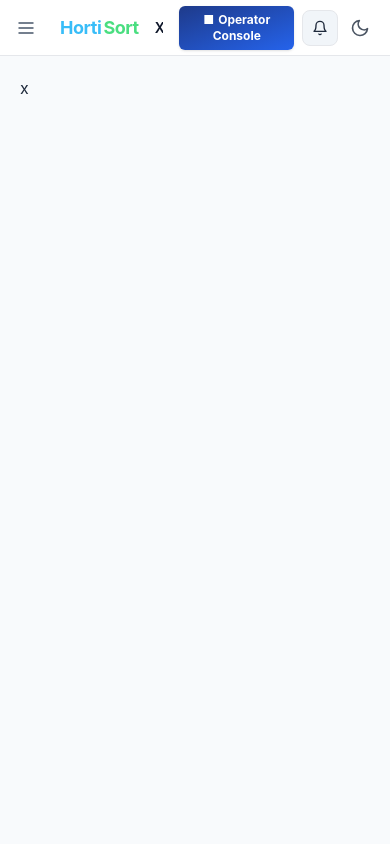
Test case: PageLayout › closes the sidebar drawer when the backdrop is clicked
The image size is (390, 844).
What coordinates should you click on to do the following:
click the button named "open navigation"
I would click on:
 (26, 28)
Its box is [8,10,44,46].
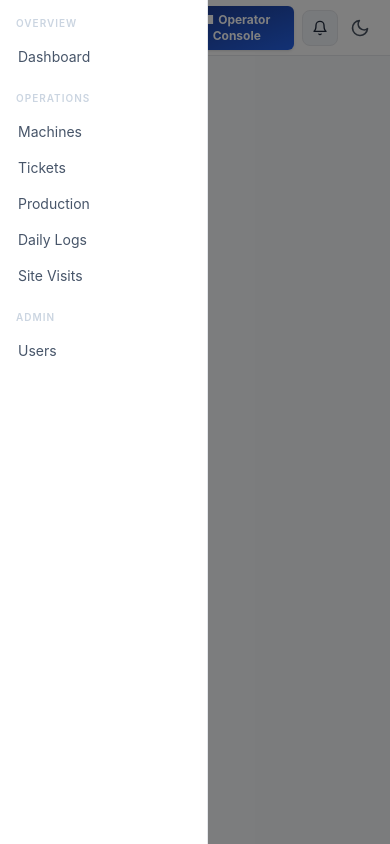
What coordinates should you click on to do the following:
click the element with test id "sidebar-backdrop"
I would click on:
 (367, 422)
Its box is [0,0,389,843].
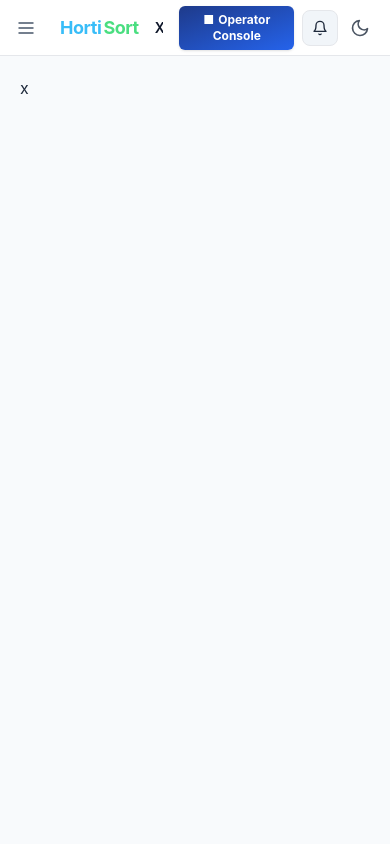
Now the element with test id "sidebar-backdrop" is gone
